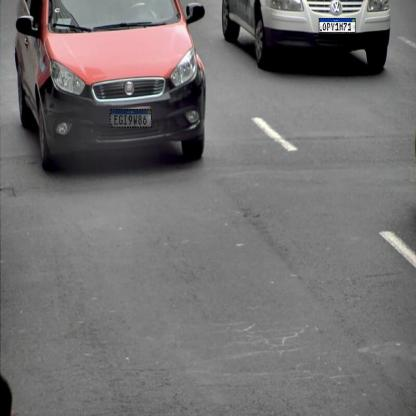PlacaM: (110, 109, 152, 127), (318, 18, 356, 33)
